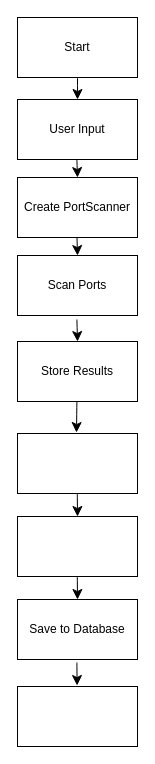
Image size: 155x764. Some labels were removed from this diagram. Each missing label, with the box of its shape:
Display Results: (16, 516, 138, 576)
End: (16, 686, 138, 746)
Filter Open Ports: (16, 432, 138, 494)
